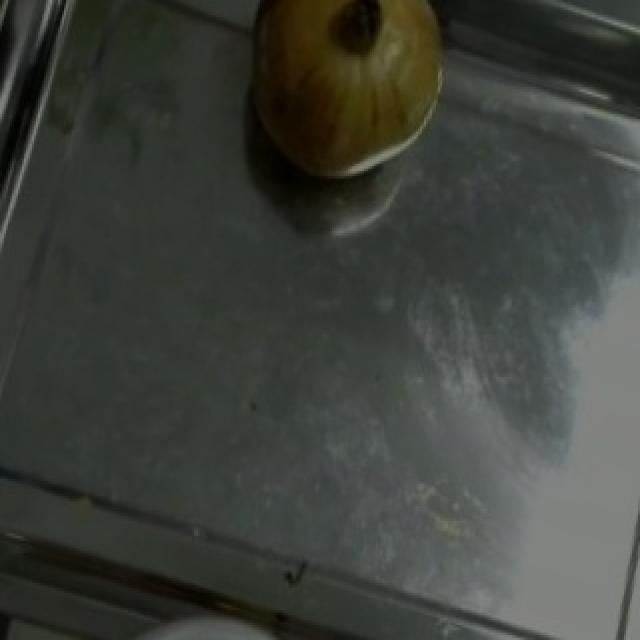fruit: (220, 0, 478, 206)
